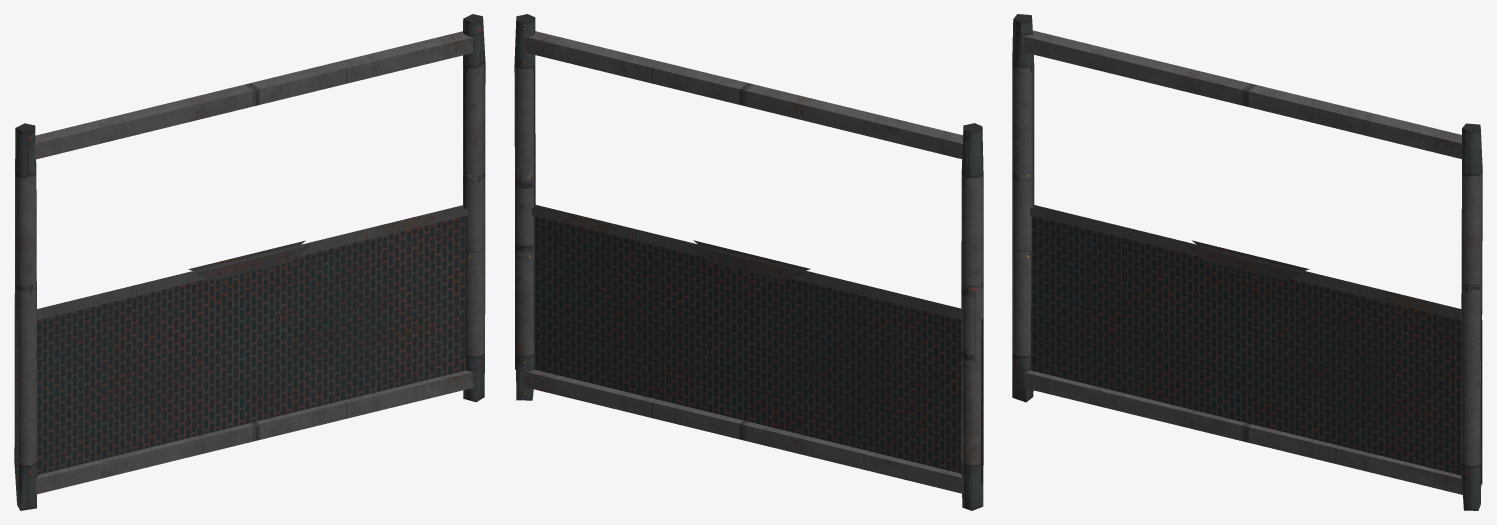
File: ARC0910138.fbx
3 renders of one model, left to right at view 1: azimuth 30°, elevation 25°; view 2: azimuth 150°, elevation 25°; view 3: azimuth 330°, elevation 25°, orthographic.
Visible parts, largest first — view 1: smARC0910138; view 2: smARC0910138; view 3: smARC0910138.
Part boxes in pixels (x1,y1,x2,y2): smARC0910138: [14, 14, 485, 510]; smARC0910138: [514, 14, 983, 510]; smARC0910138: [1012, 14, 1482, 510].
Size of the model in its own units: 397 by 308 by 16.87.
1 material, 1 textured.
